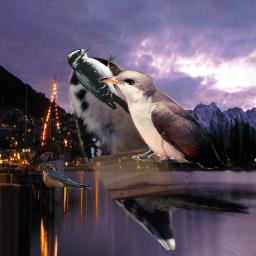Cuckoo: (99, 70, 226, 169)
Swallow: (42, 164, 95, 191)
Woodpecker: (68, 57, 249, 250), (67, 47, 133, 114)
